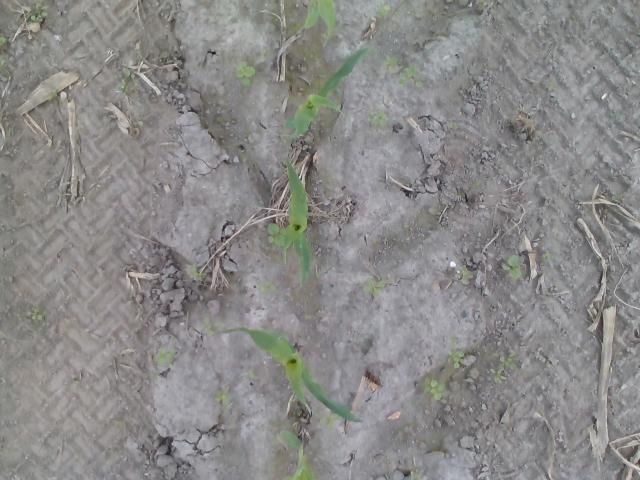Maize: (212, 325, 364, 424), (282, 43, 370, 142), (281, 152, 313, 286), (276, 425, 316, 480), (304, 0, 336, 46)
Weeds: (385, 54, 424, 88), (114, 68, 140, 95), (234, 63, 257, 90), (154, 346, 176, 370), (316, 410, 338, 433), (423, 375, 444, 399), (362, 277, 384, 298), (22, 2, 49, 19), (1, 108, 16, 138), (507, 252, 522, 282), (266, 222, 284, 247), (374, 1, 400, 18), (366, 108, 388, 128), (500, 350, 520, 370), (447, 349, 466, 369), (64, 374, 82, 392), (212, 391, 230, 409), (458, 264, 473, 285), (488, 367, 505, 384), (190, 266, 206, 284), (300, 45, 319, 60), (202, 318, 215, 336), (30, 305, 44, 321), (610, 192, 625, 204), (408, 467, 421, 480), (540, 248, 552, 262), (46, 90, 58, 104), (256, 282, 272, 292), (132, 119, 146, 130), (2, 148, 16, 158), (246, 370, 258, 380), (0, 34, 8, 49), (546, 78, 555, 89), (446, 122, 458, 130), (575, 199, 583, 209), (0, 57, 8, 66)
